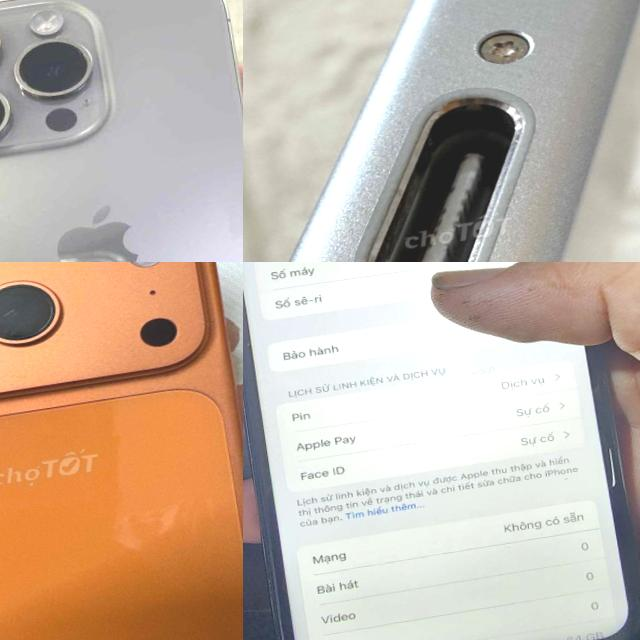gen_15: (243, 0, 640, 262), (0, 0, 243, 262)
gen_17: (0, 262, 243, 640)
gen_x_xs: (243, 262, 640, 640)
scratch: (243, 406, 289, 640), (600, 357, 635, 512), (243, 331, 265, 359), (634, 589, 640, 607)
